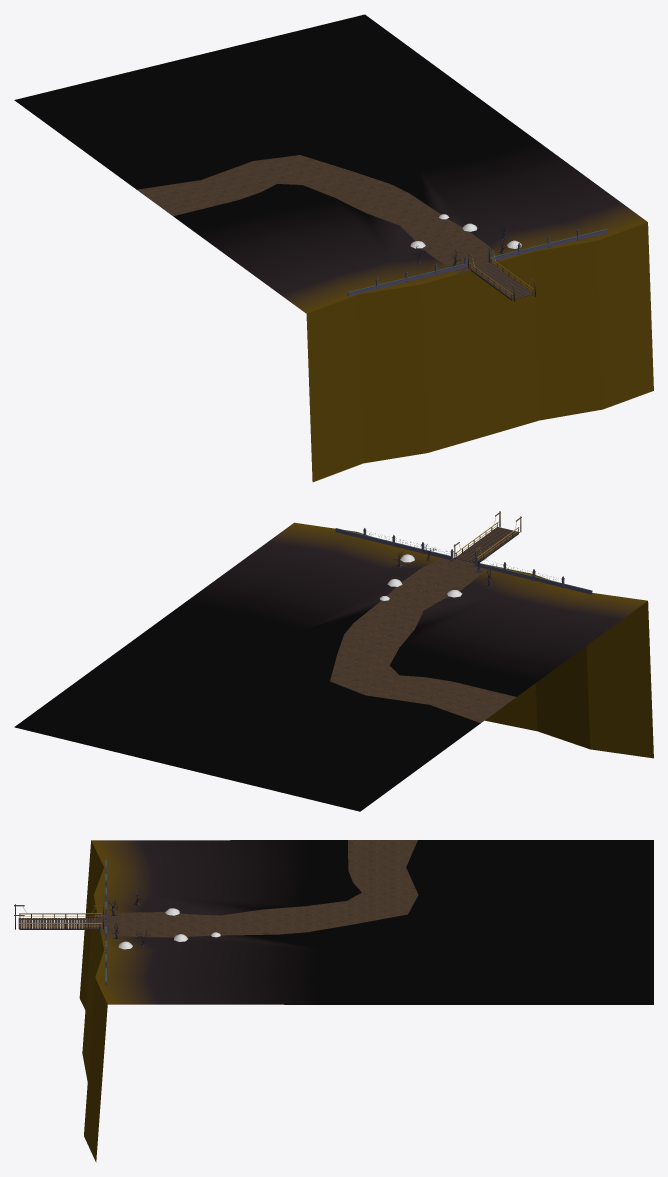
Rendered from Castle Outside.fbx.
3 renders of one model, top to bottom at view 1: azimuth 30°, elevation 25°; view 2: azimuth 150°, elevation 25°; view 3: azimuth 270°, elevation 25°, orthographic. The views are drawn at different scales.
Visible parts, largest first — view 1: Castle_Outside; view 2: Castle_Outside; view 3: Castle_Outside.
Part boxes in pixels (box(x1,y1,x2,y2)): Castle_Outside: box(14, 14, 653, 482); Castle_Outside: box(14, 511, 653, 811); Castle_Outside: box(14, 840, 653, 1162).
Size of the model in its own units: 100 by 49.66 by 164.
